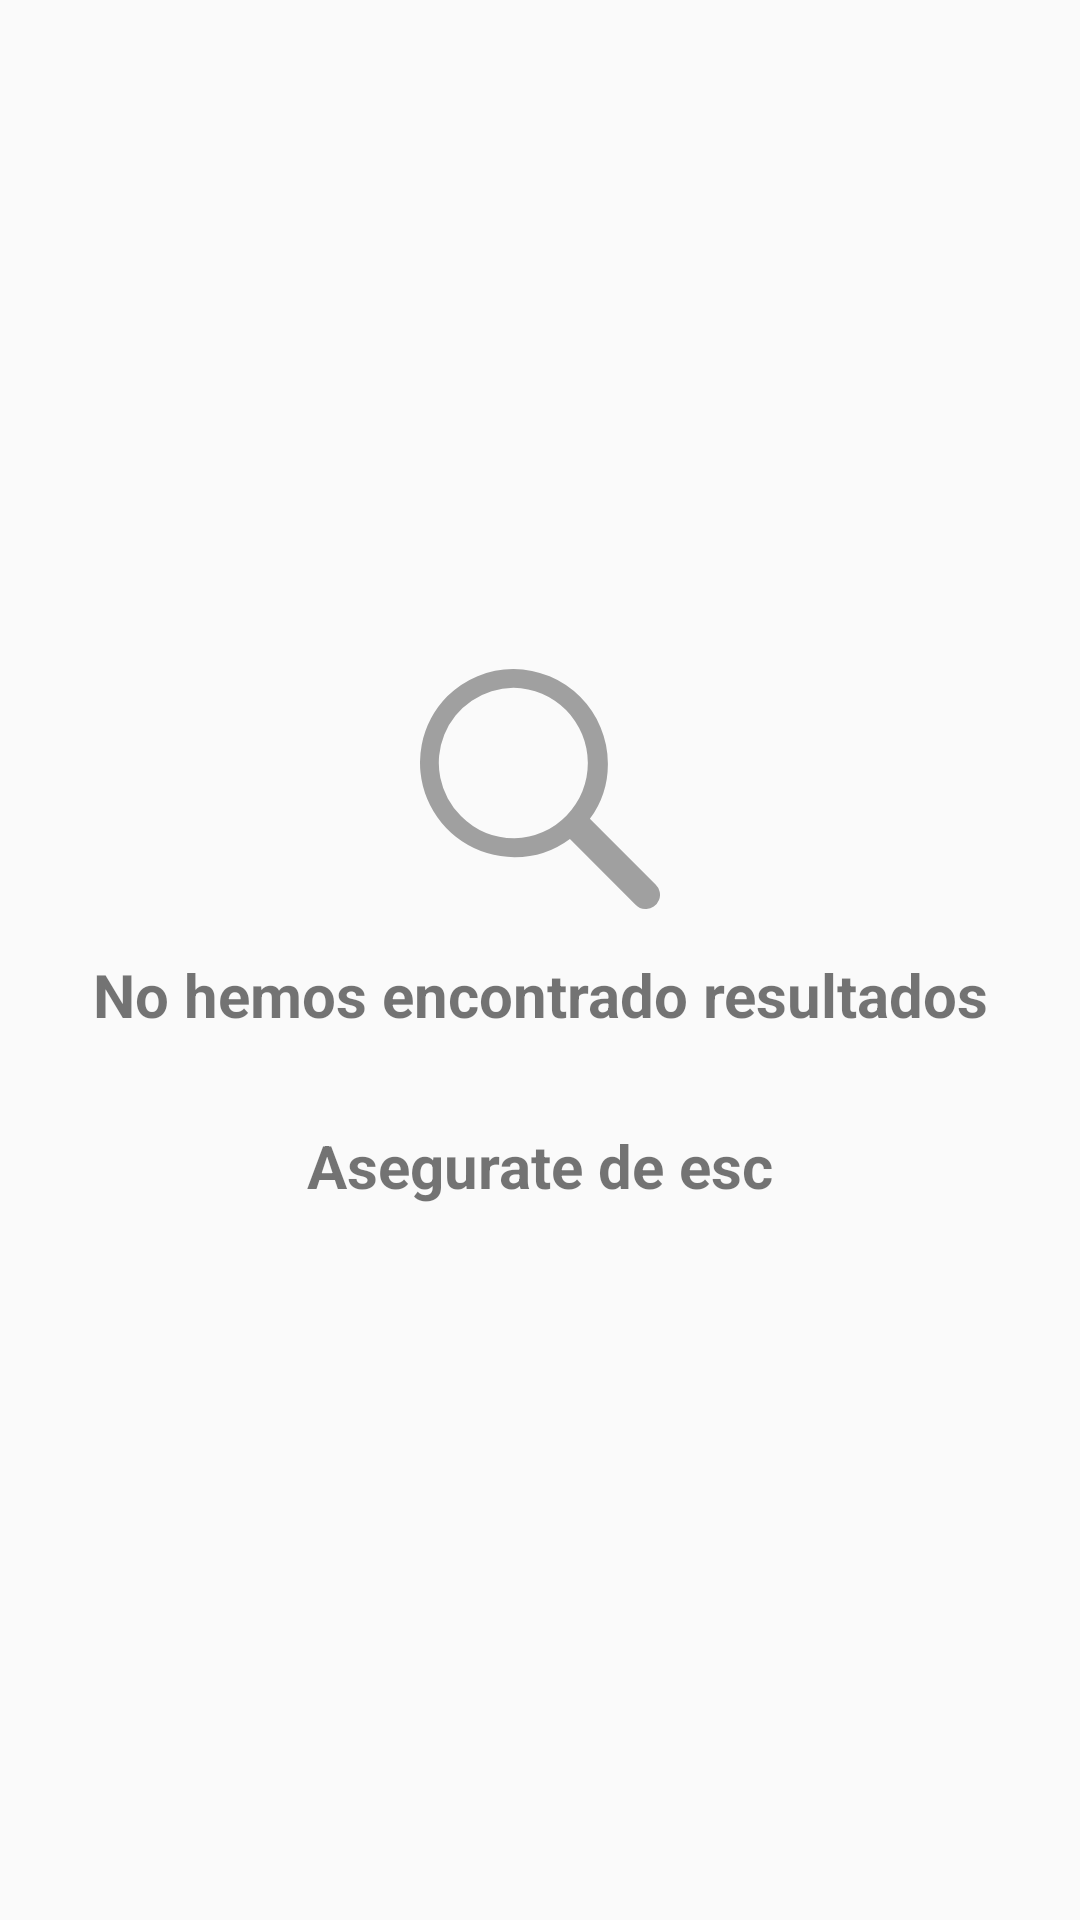

Point at icon controls on the screen. Image size 1080*1920, points as point (x, y).
search: point (540, 789)
